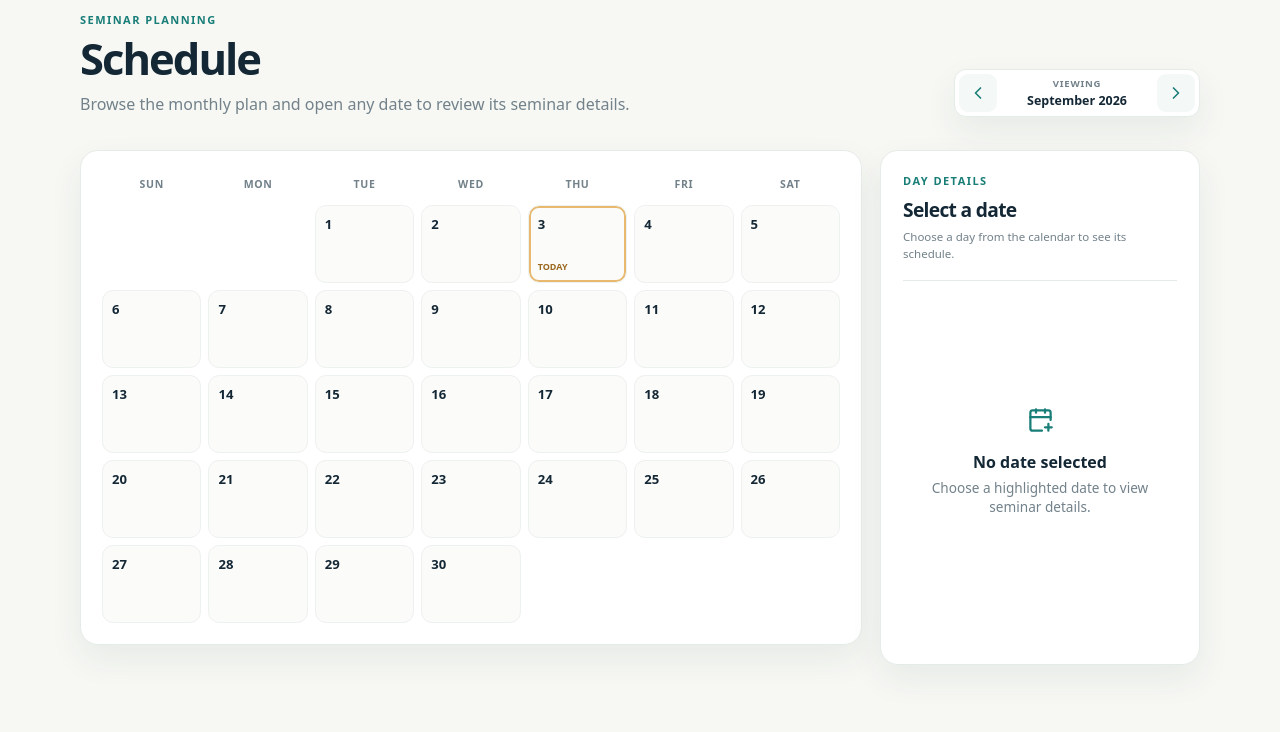
it: CalendarView › navigates months and reveals a selected day
The image size is (1280, 732).
Click the button named "Next month". click: click(1176, 93)
box: [1157,74,1195,112]
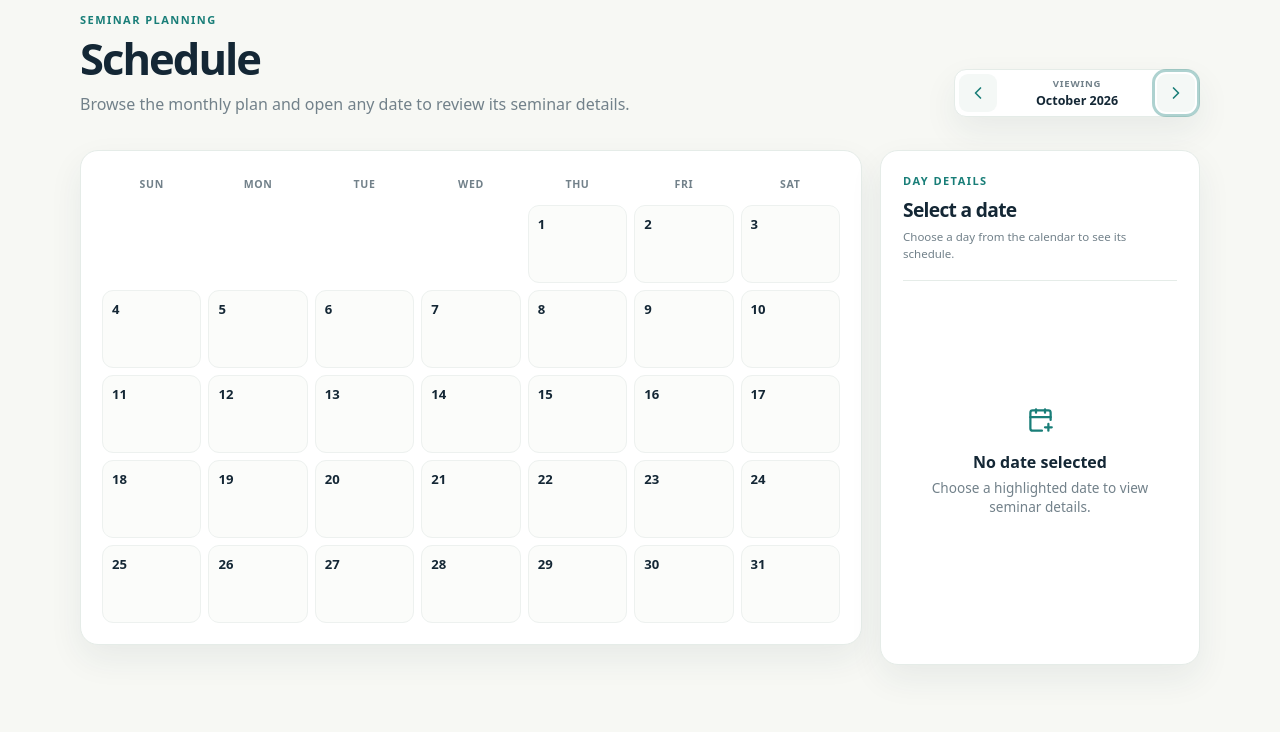
Click the button named "no seminars". click: click(577, 244)
box: [528,205,627,283]
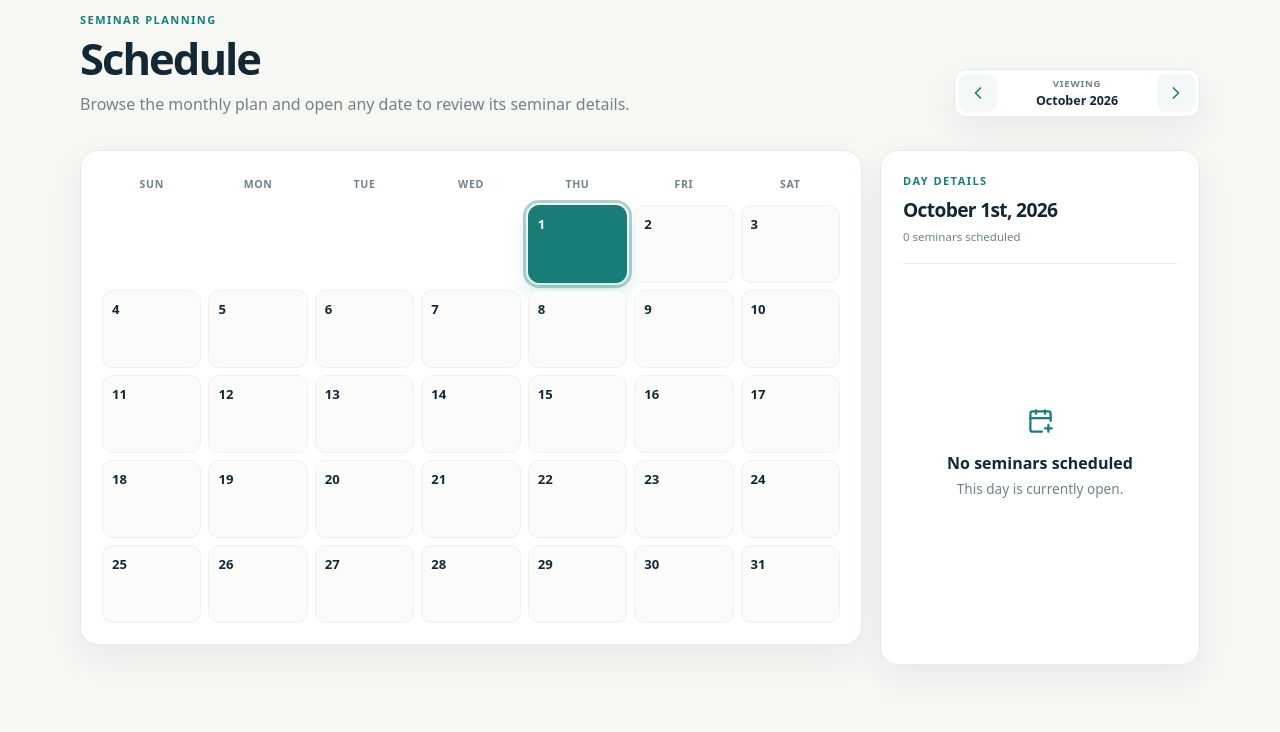
Expected: the text "0 seminars scheduled" is shown, [903,229,1021,244]
